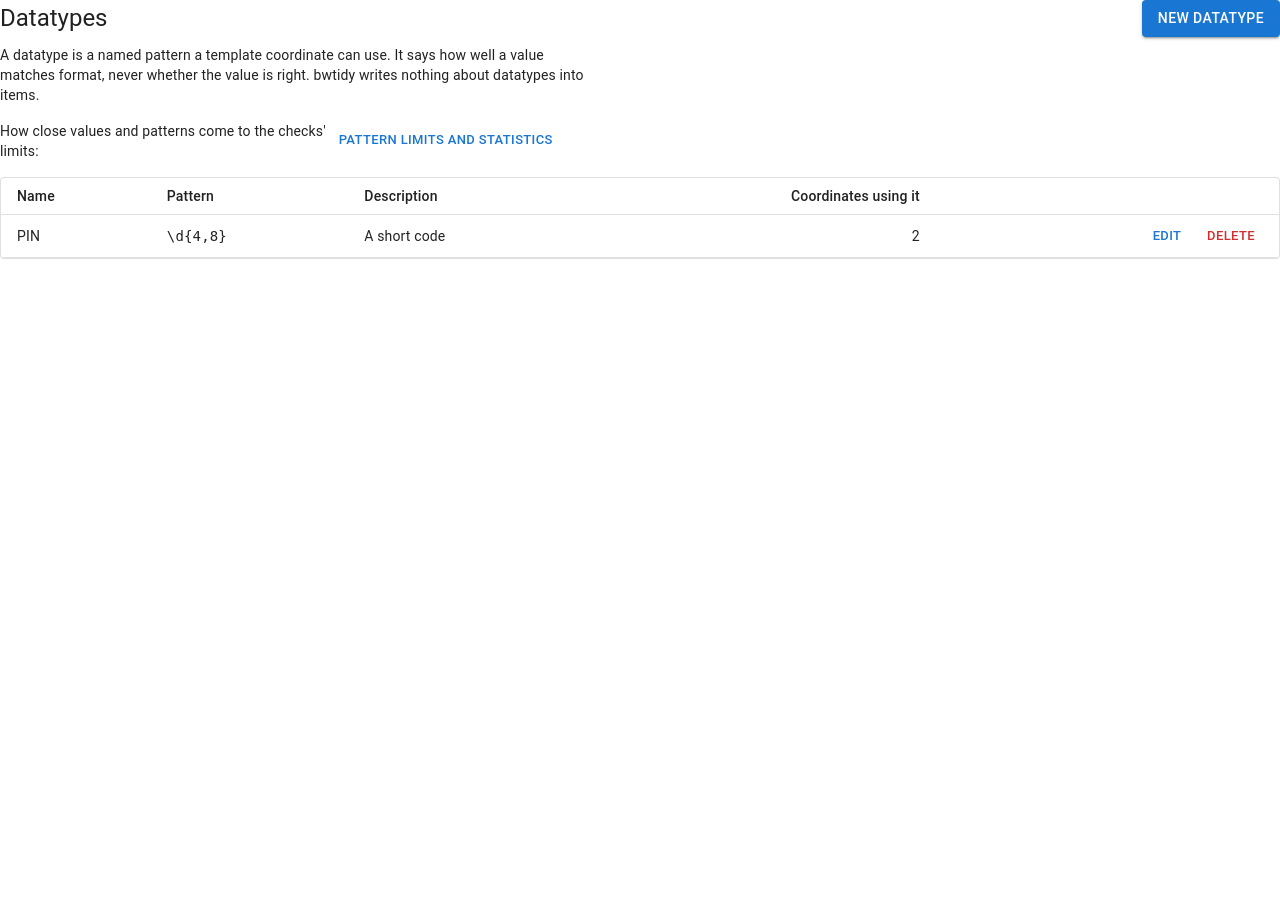
Test case: the regular expression field says what it supports, with Ignore case under it
Step 1. Click the button "New datatype" → (1211, 18), box [1142, 0, 1279, 36]
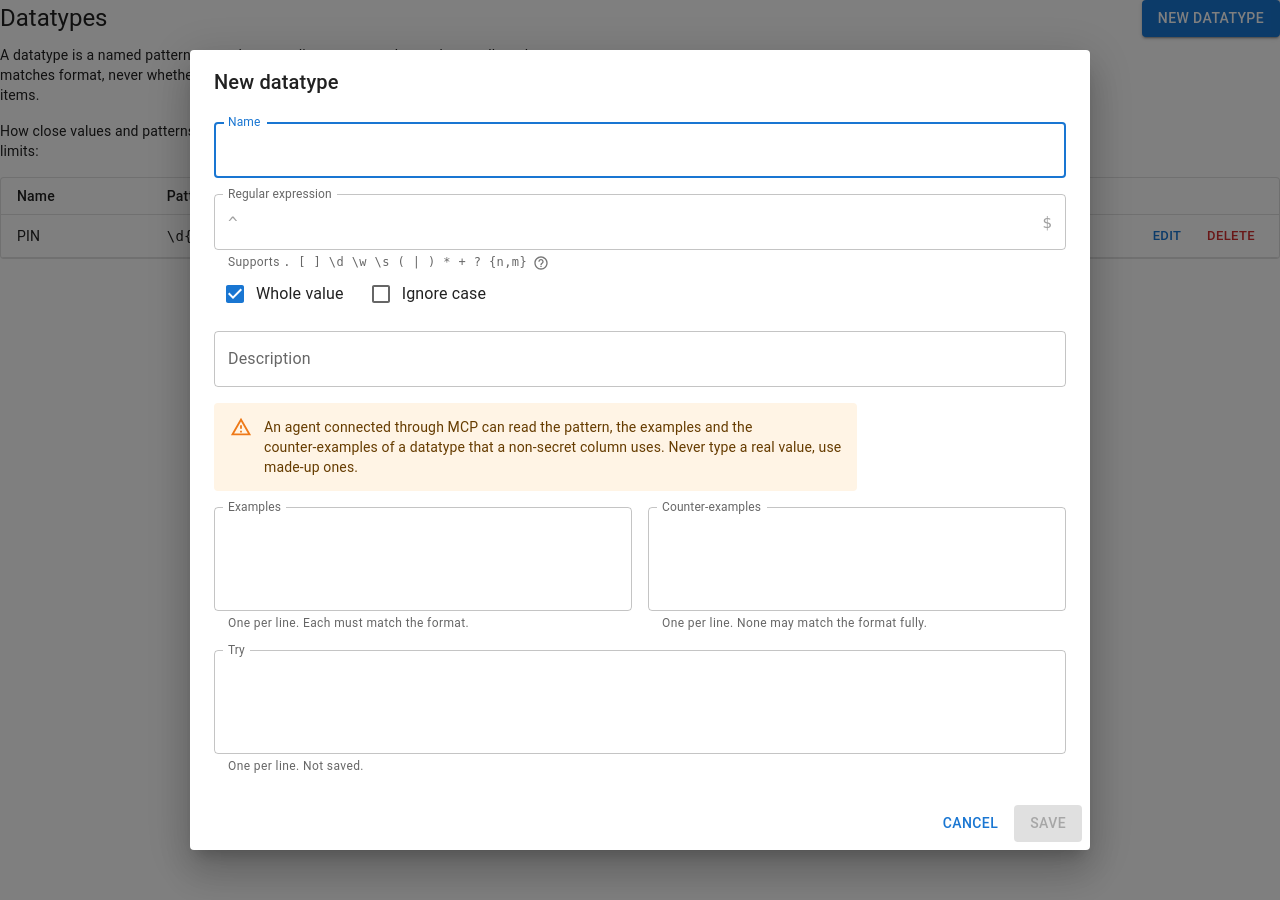
Result: the text ". [ ] \\d \\w \\s ( | ) * + ? {n,m}" is shown at [283, 255, 527, 269]
Step 2. Hover over the button named "Regular expression syntax" → (541, 263), box [531, 253, 551, 273]
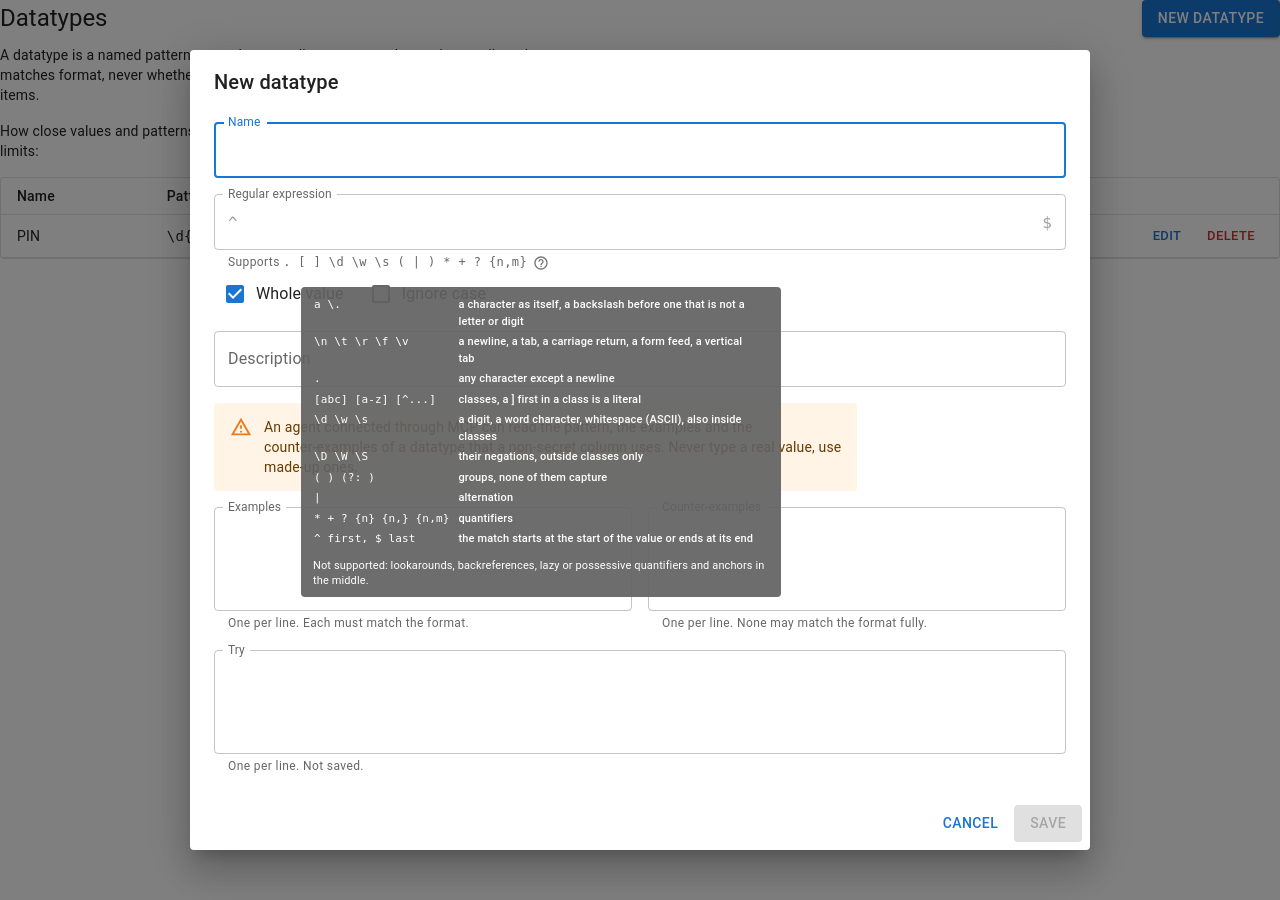
Result: the tooltip shows "groups, none of them capture" at [458, 470, 607, 484]
